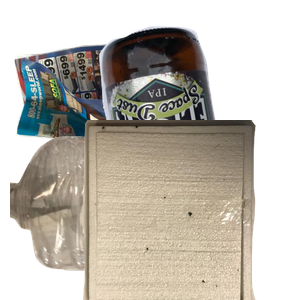glass: (97, 24, 300, 204)
paper: (12, 31, 196, 204)
plastic: (10, 134, 250, 300)
trash: (80, 120, 300, 300)
